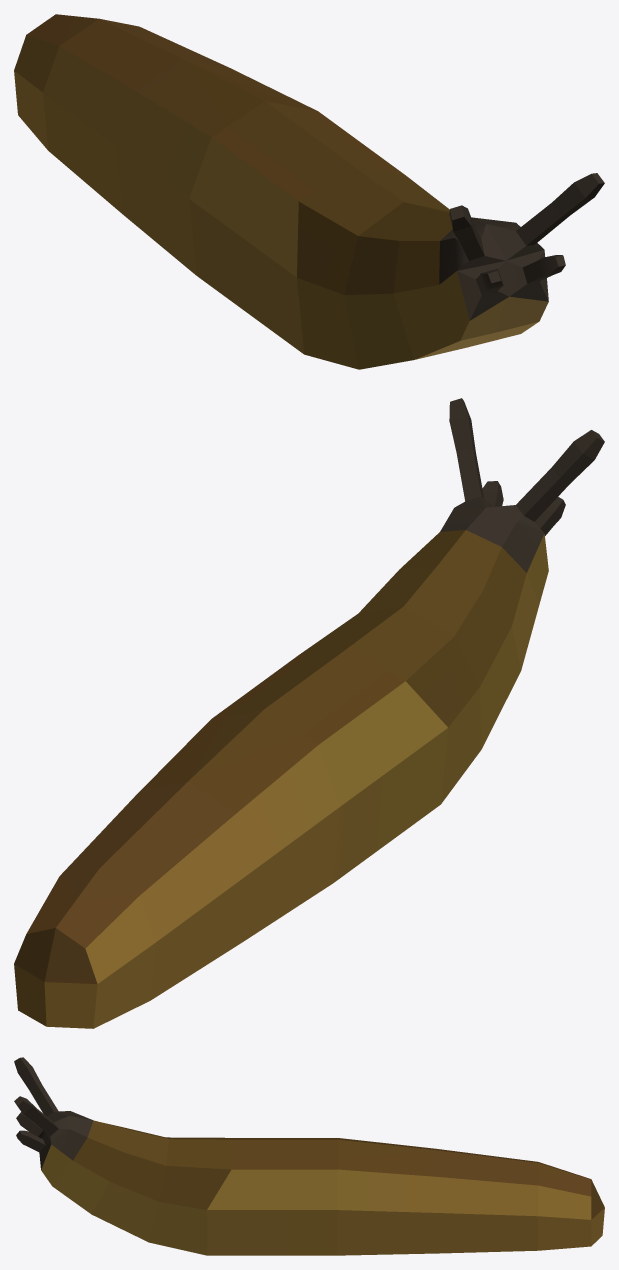
The model's file is cJhVqTWYYnr.glb.
The picture shows the model from 3 angles, top to bottom: view 1: azimuth 30°, elevation 25°; view 2: azimuth 150°, elevation 25°; view 3: azimuth 270°, elevation 25°; orthographic projection. The views are drawn at different scales.
Parts seen in each view (by area): view 1: Geo_Slug; view 2: Geo_Slug; view 3: Geo_Slug.
Boxes of the visible parts, <box> form: Geo_Slug: <box>14,14,604,369</box>; Geo_Slug: <box>14,398,604,1028</box>; Geo_Slug: <box>14,1057,604,1255</box>.
Bounding box in the file's own units: 0.6093 × 1 × 3.37.
1 material, 1 textured.
